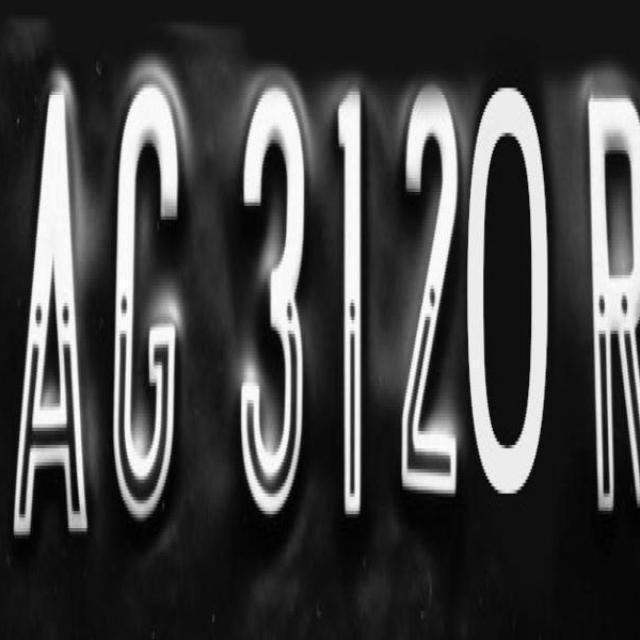0: (467, 72, 545, 510)
1: (331, 84, 376, 544)
2: (384, 75, 462, 505)
3: (241, 62, 299, 518)
A: (0, 70, 108, 541)
G: (105, 61, 194, 533)
R: (566, 80, 640, 528)
